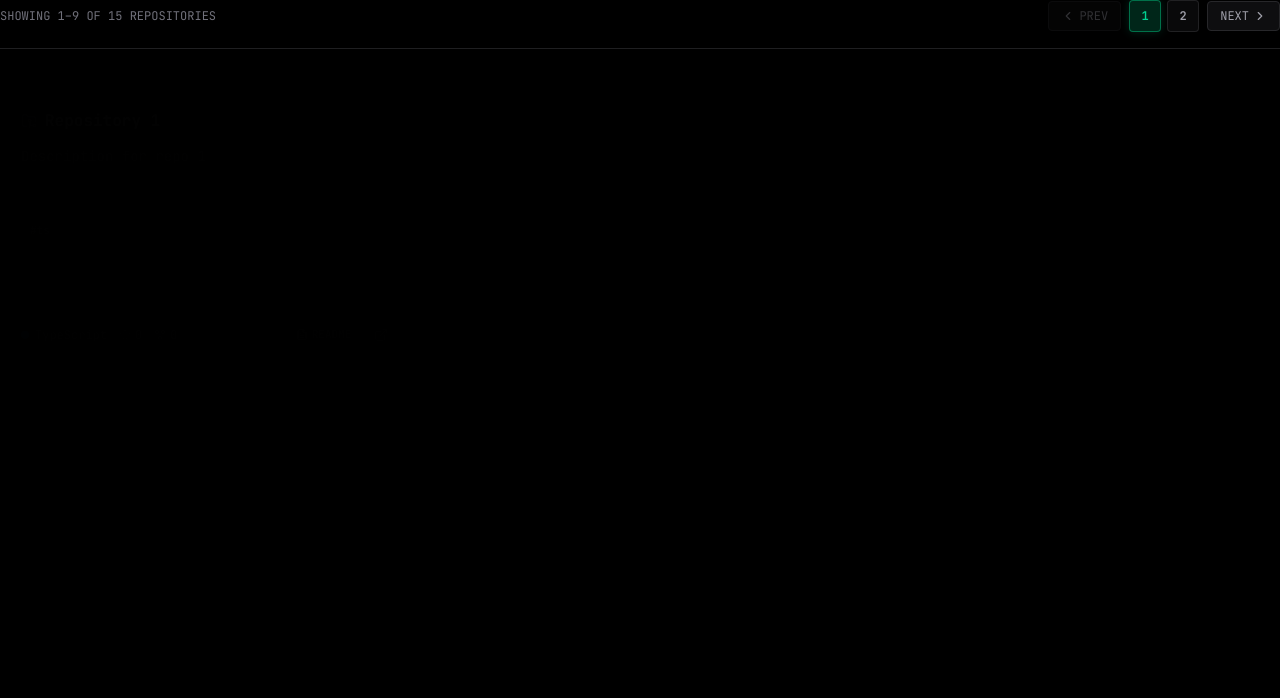
ProjectGrid Component › paginates items at 9 per page and allows navigation
The width and height of the screenshot is (1280, 698).
Expected: the navigation bar named "pagination" is shown, [1048, 0, 1279, 32]
Expected: the button with aria-label "previous page" is disabled, [1048, 1, 1121, 31]
Note: Navigate to Page 2
What coordinates should you click on to do the following:
click the button with aria-label "next page"
I would click on:
 (1244, 16)
Its box is [1207, 1, 1279, 31].
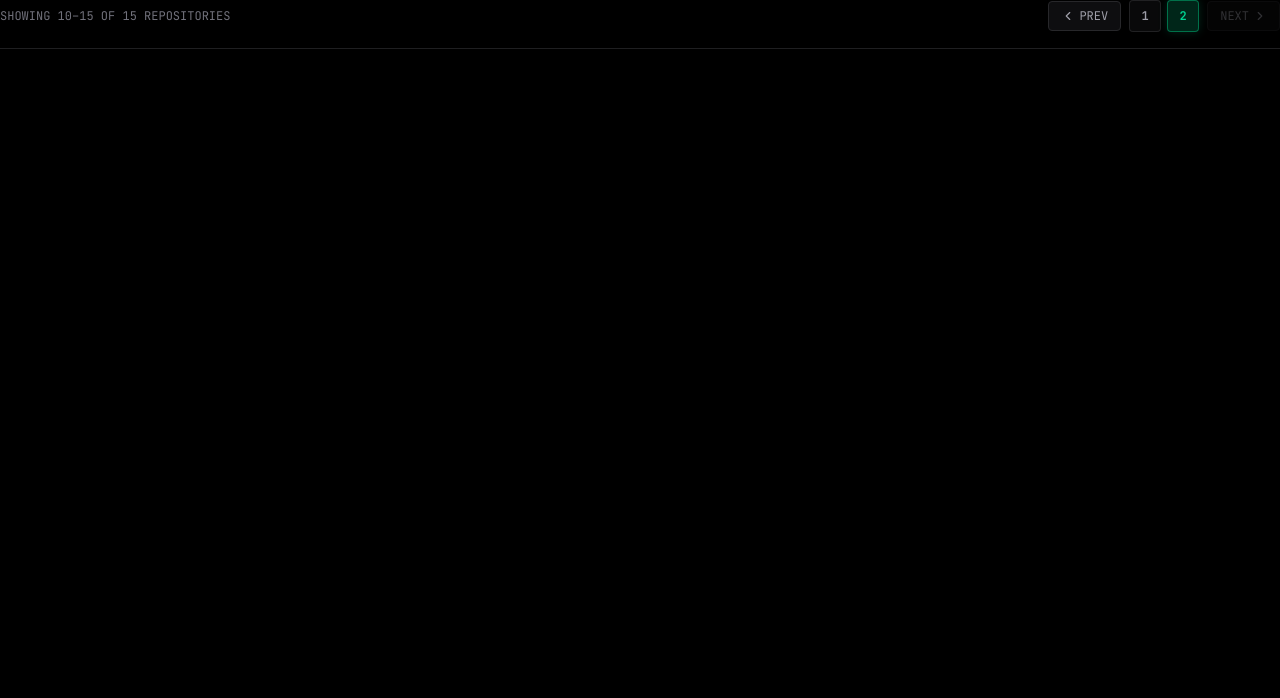
Expected: the link "Repository 1" is not shown
Result: the button with aria-label "previous page" is enabled at [1048, 1, 1121, 31]
Result: the button with aria-label "next page" is disabled at [1207, 1, 1279, 31]
Note: Navigate back via page number button "1"
What coordinates should you click on to do the following:
click the button named "Page 1"
I would click on:
 (1145, 16)
Its box is [1129, 0, 1161, 32].
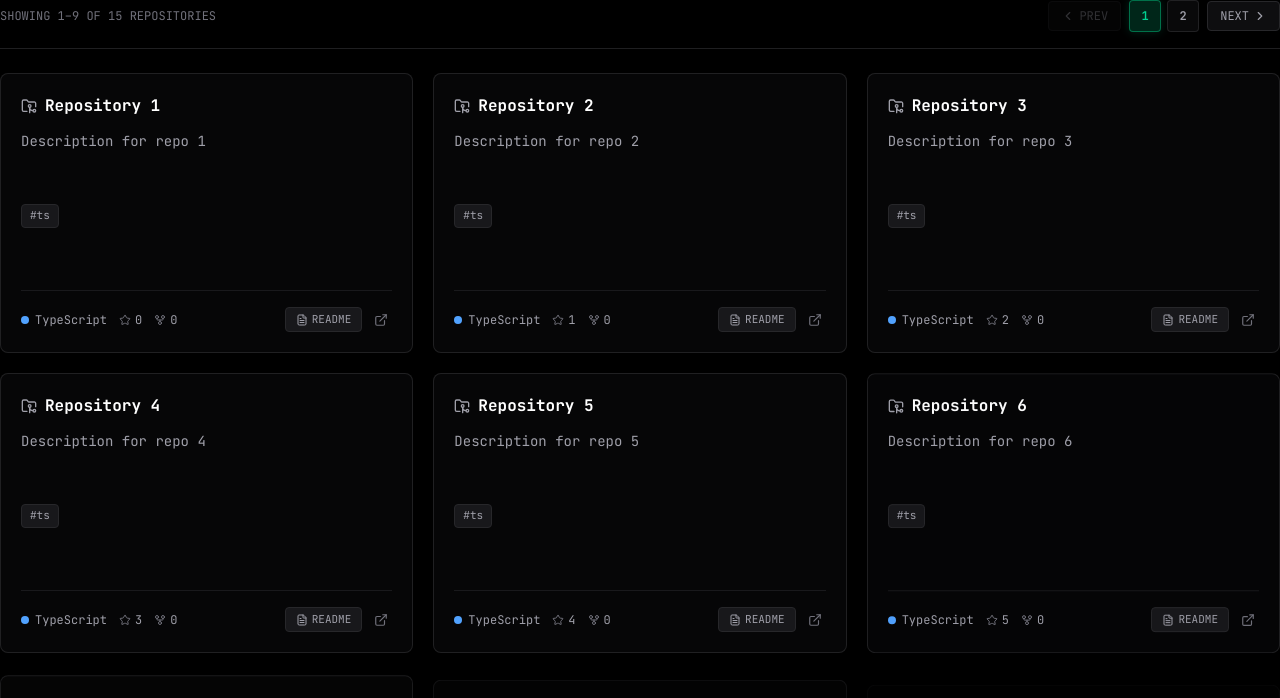
Result: the link "Repository 1" is shown at [45, 94, 160, 118]
